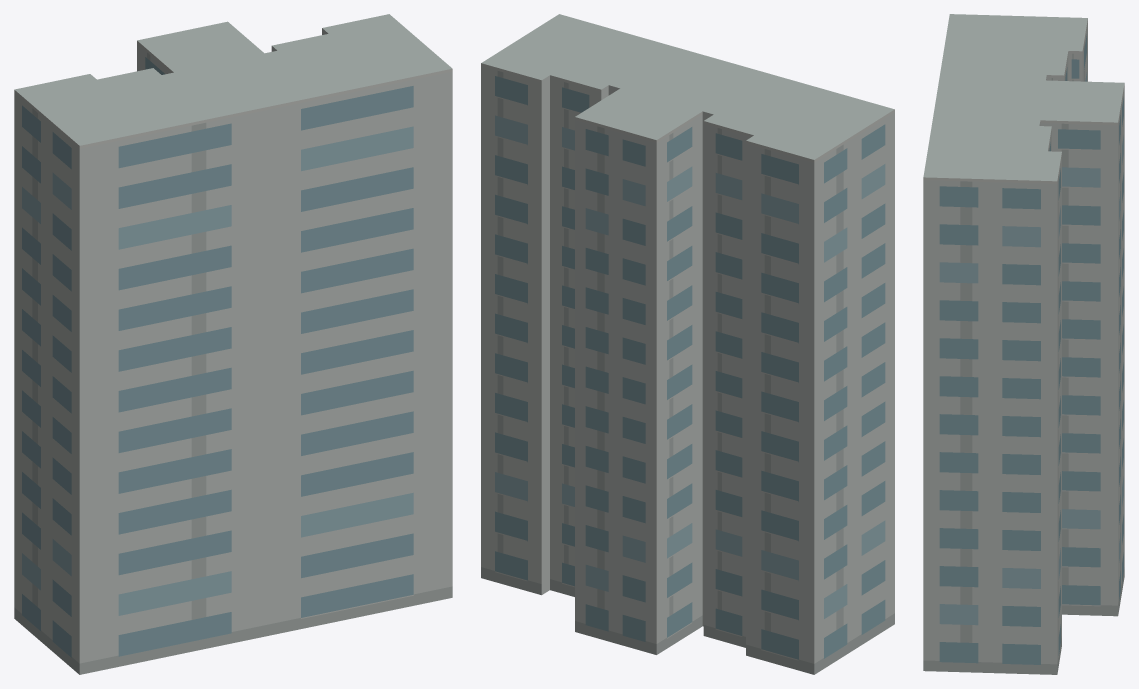
The model's file is residential-148a9599-f855-4545-9e27-2ac580ea7691.glb.
3 renders of one model, left to right at view 1: azimuth 30°, elevation 25°; view 2: azimuth 150°, elevation 25°; view 3: azimuth 270°, elevation 25°, orthographic. The views are drawn at different scales.
Visible parts, largest first — view 1: residential-148a9599-f855-4545-9e27-2ac580ea7691.tmp; view 2: residential-148a9599-f855-4545-9e27-2ac580ea7691.tmp; view 3: residential-148a9599-f855-4545-9e27-2ac580ea7691.tmp.
Boxes of the visible parts, left/top/right/bottom form: residential-148a9599-f855-4545-9e27-2ac580ea7691.tmp: left=14, top=14, right=452, bottom=674; residential-148a9599-f855-4545-9e27-2ac580ea7691.tmp: left=481, top=14, right=894, bottom=674; residential-148a9599-f855-4545-9e27-2ac580ea7691.tmp: left=923, top=14, right=1124, bottom=674.
Size of the model in its own units: 31.26 by 43 by 15.9.
